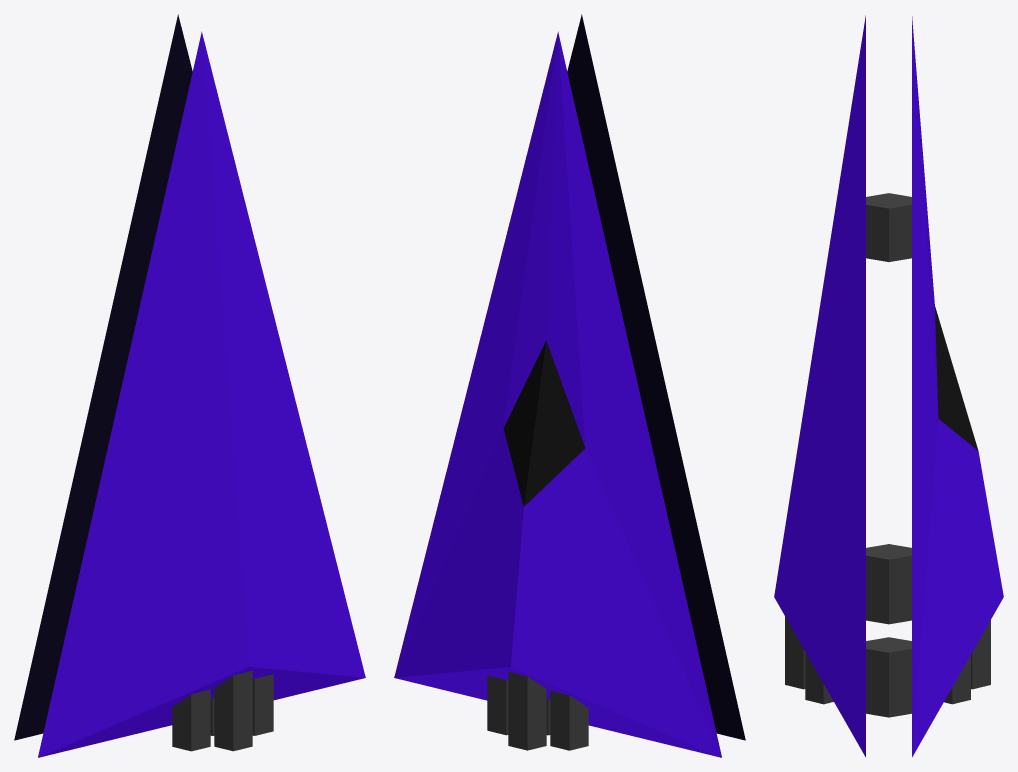
The model's file is ennemi 2.fbx.
3 views of the same model, side by side, from view 1: azimuth 30°, elevation 25°; view 2: azimuth 150°, elevation 25°; view 3: azimuth 270°, elevation 25° (orthographic). The views are drawn at different scales.
Parts seen in each view (by area): view 1: Plane; view 2: Plane; view 3: Plane.
Boxes of the visible parts, x1,y1,x2,y2 form: Plane: (14, 14, 365, 757); Plane: (394, 14, 745, 757); Plane: (774, 15, 1003, 757).
Bounding box in the file's own units: 200 × 400 × 125.
